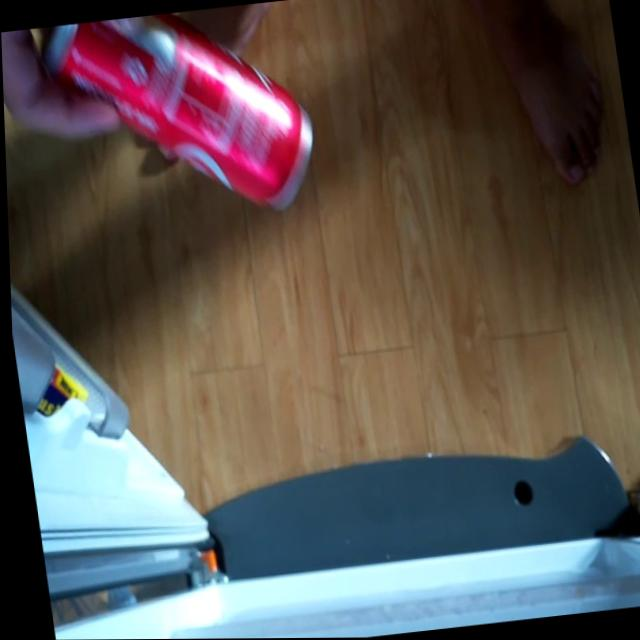coke: (30, 0, 328, 238)
